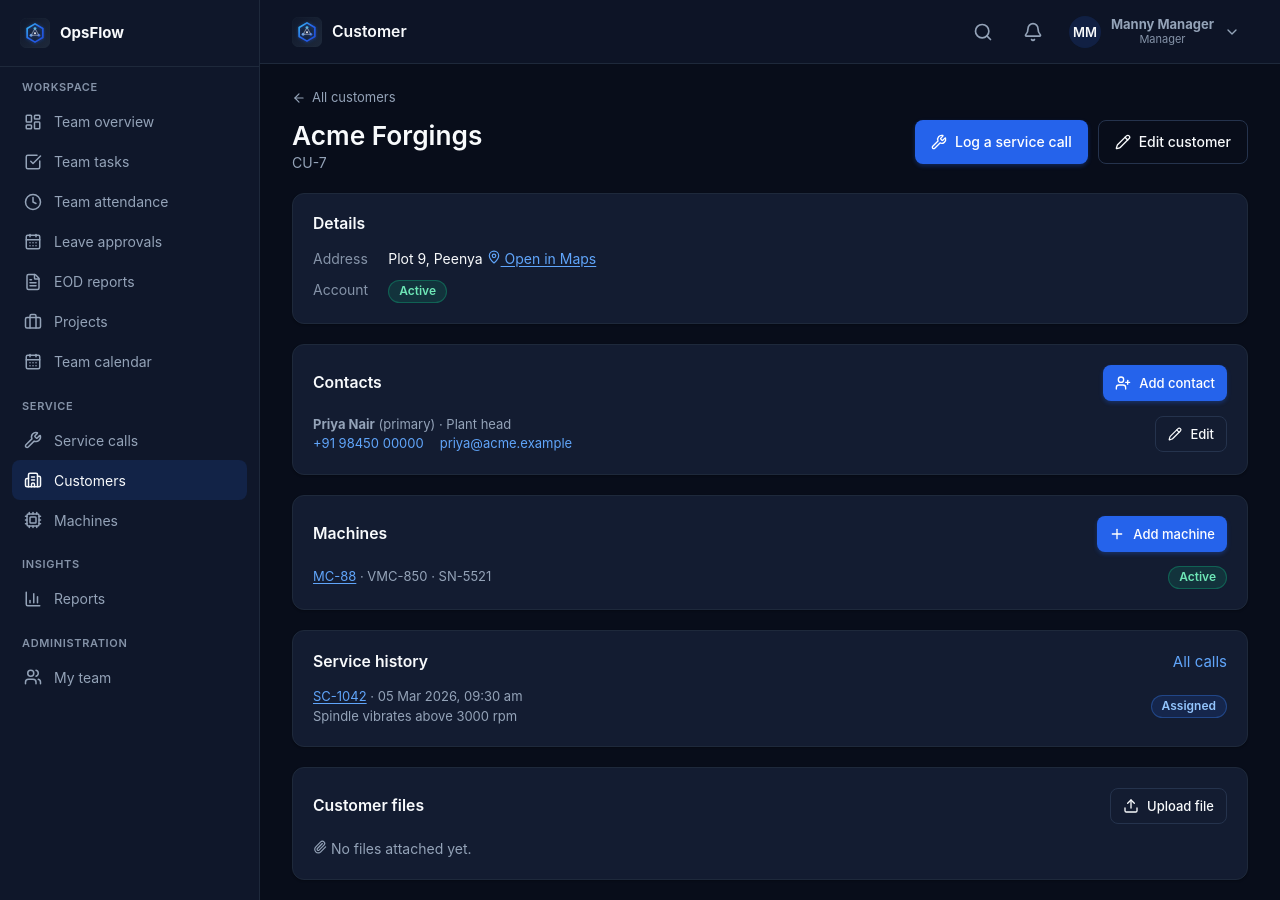
Scenario: Customer page › shows the server's refusal when a manager may not edit this customer
Click the button "Edit customer": (1173, 142) 1098,120 -> 1248,164
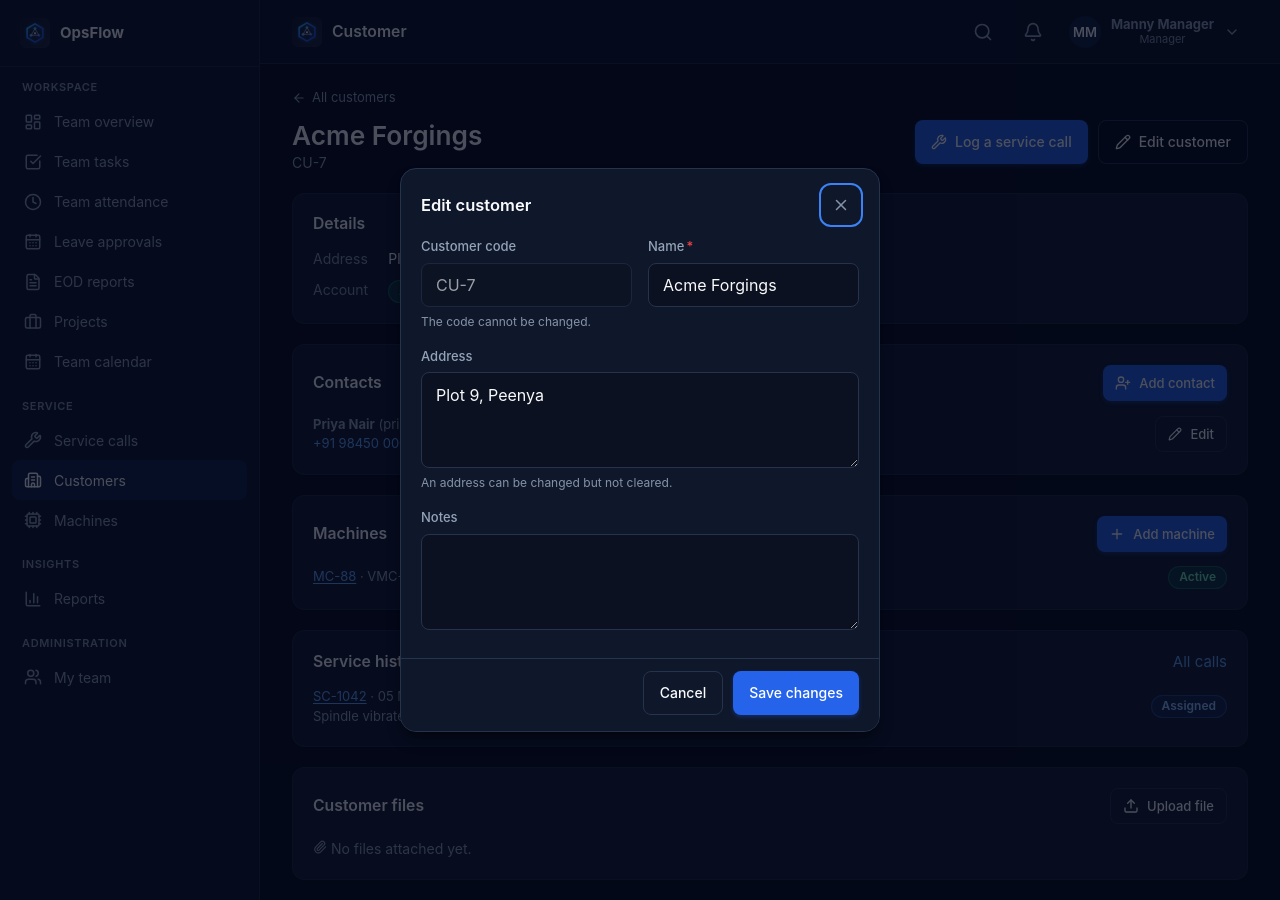
In the text box labelled "Address": (640, 420) 421,372 -> 859,468, type " extra"
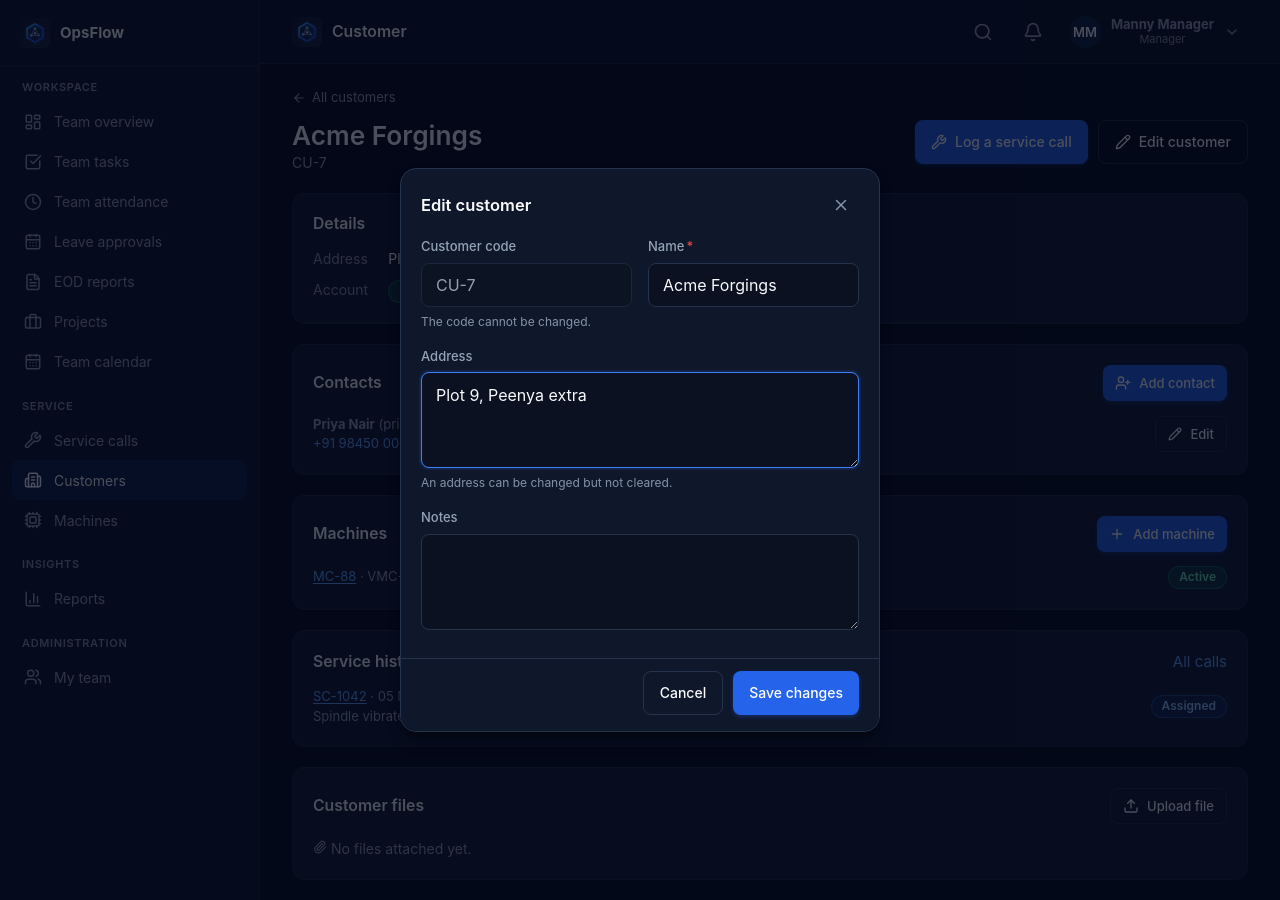
Click the button "Save changes": (796, 693) 733,671 -> 859,715
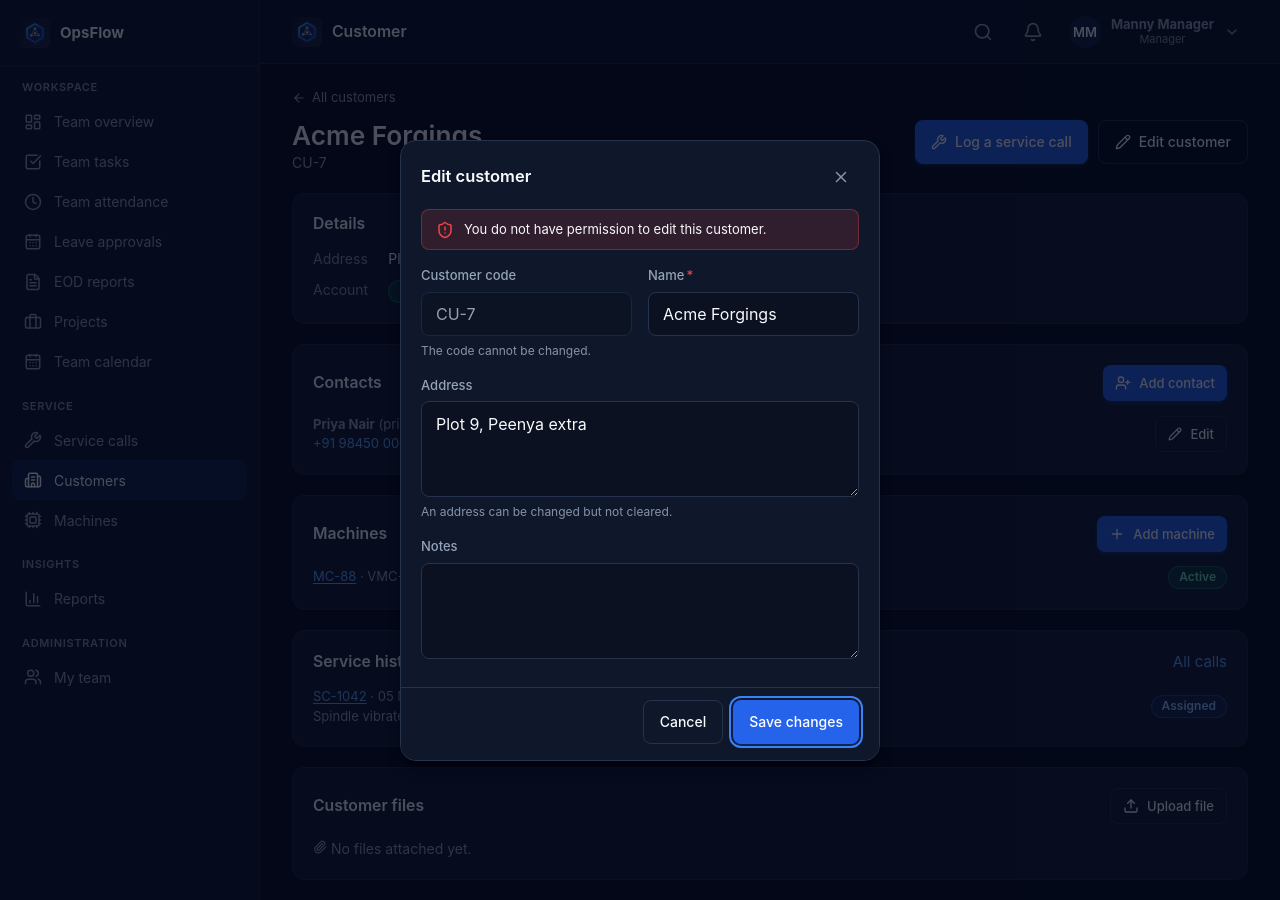
expect the text "You do not have permission to edit this customer." is shown: met, box 464,220 -> 766,239
